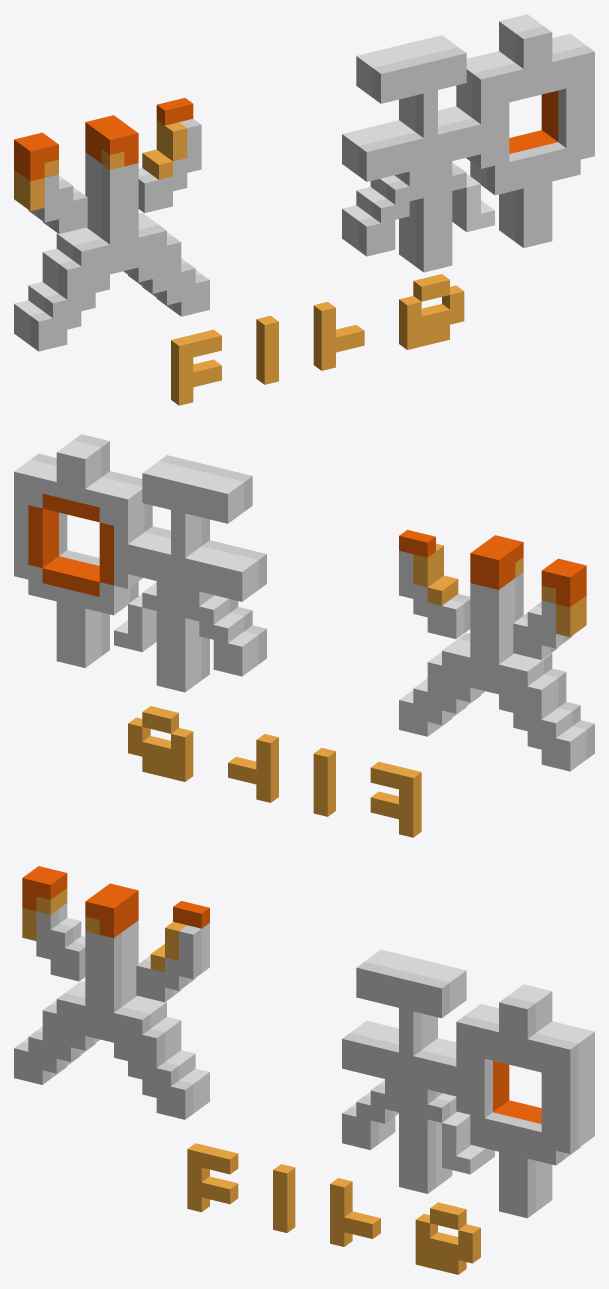
Rendered from newtitle.obj.
3 views of the same model, one above another, from view 1: azimuth 30°, elevation 25°; view 2: azimuth 150°, elevation 25°; view 3: azimuth 330°, elevation 25° (orthographic).
Size of the model in its own units: 3.9 by 2 by 0.3.
1 material, 1 textured.
